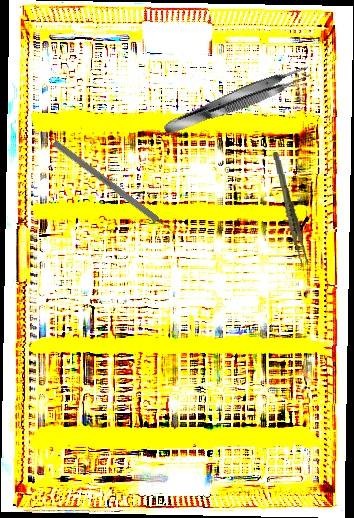Hook Surgical: (52, 139, 184, 242)
Tissue Forceps: (160, 60, 314, 140), (271, 150, 310, 269)
